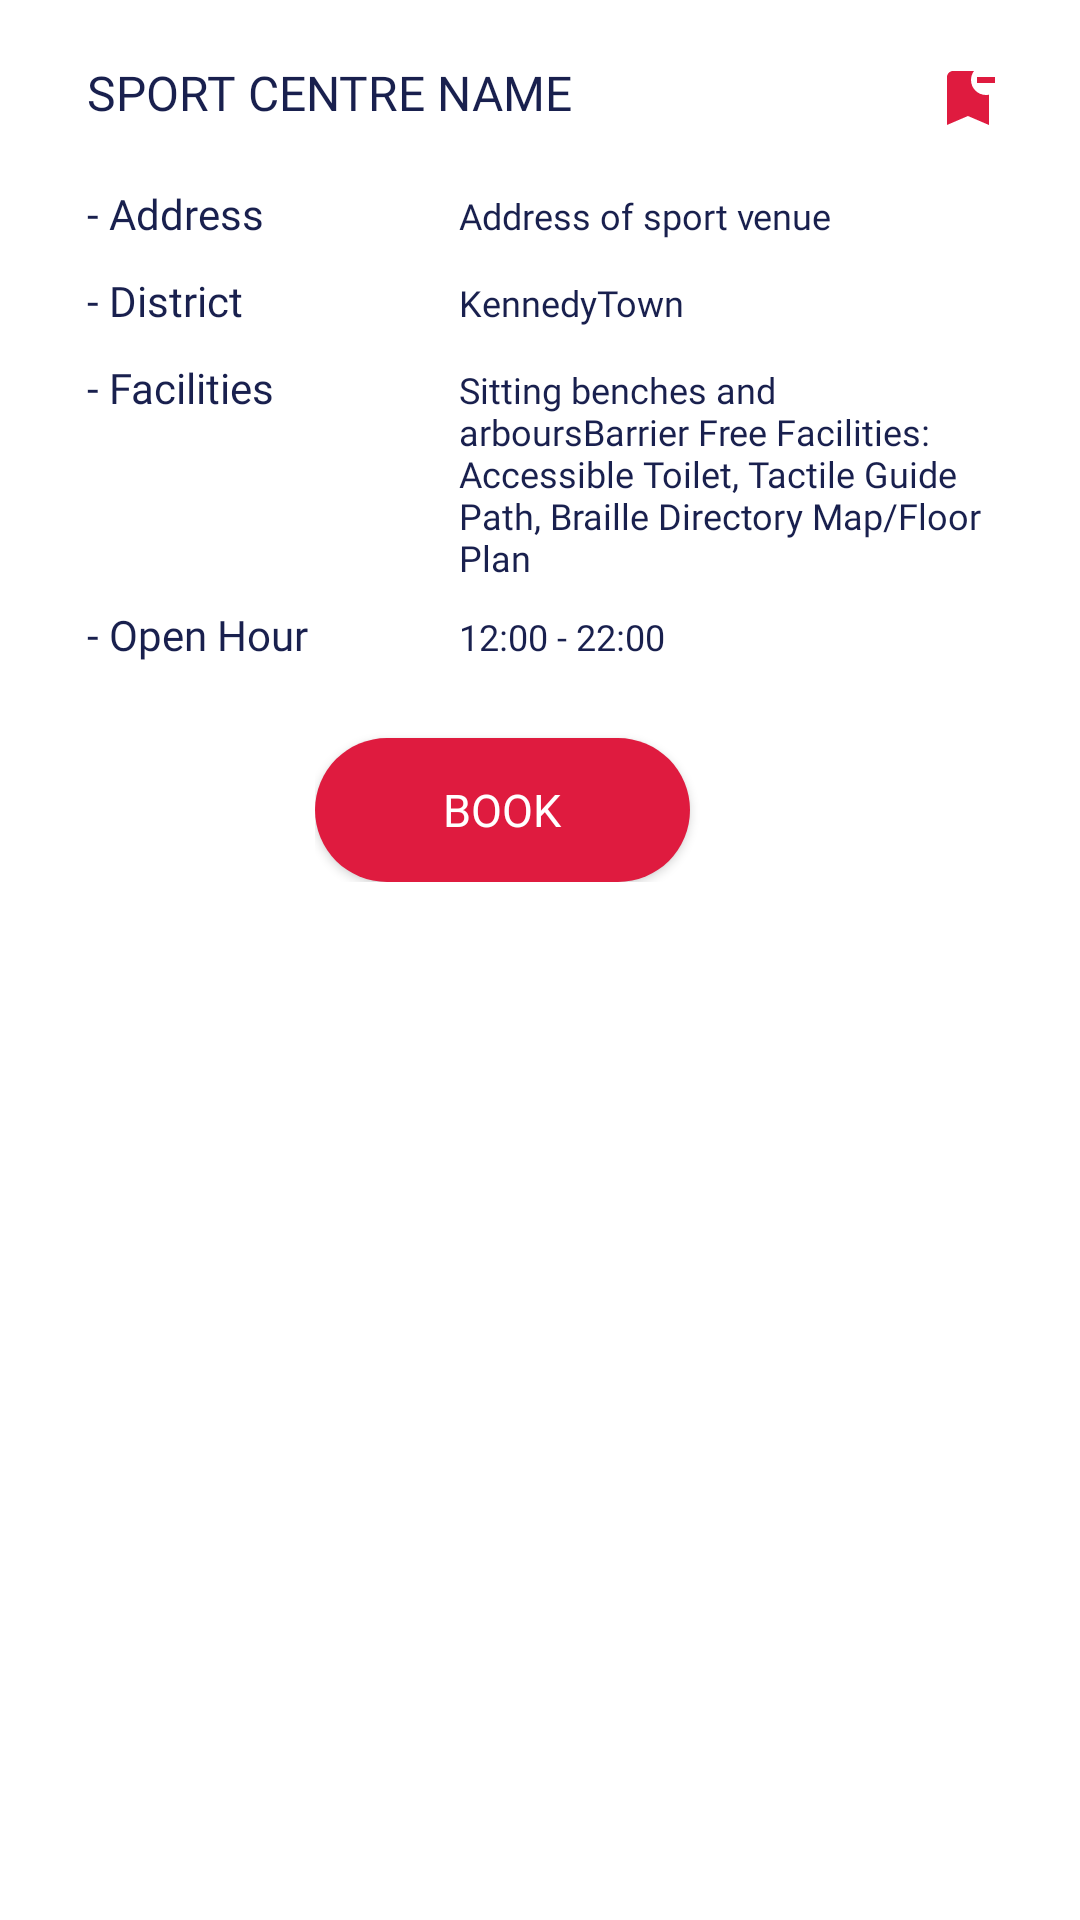

Where to tap for icons on this 1080 x 1920 app screen, as (x=x, y=y):
bookmark remove: (x=971, y=98)
